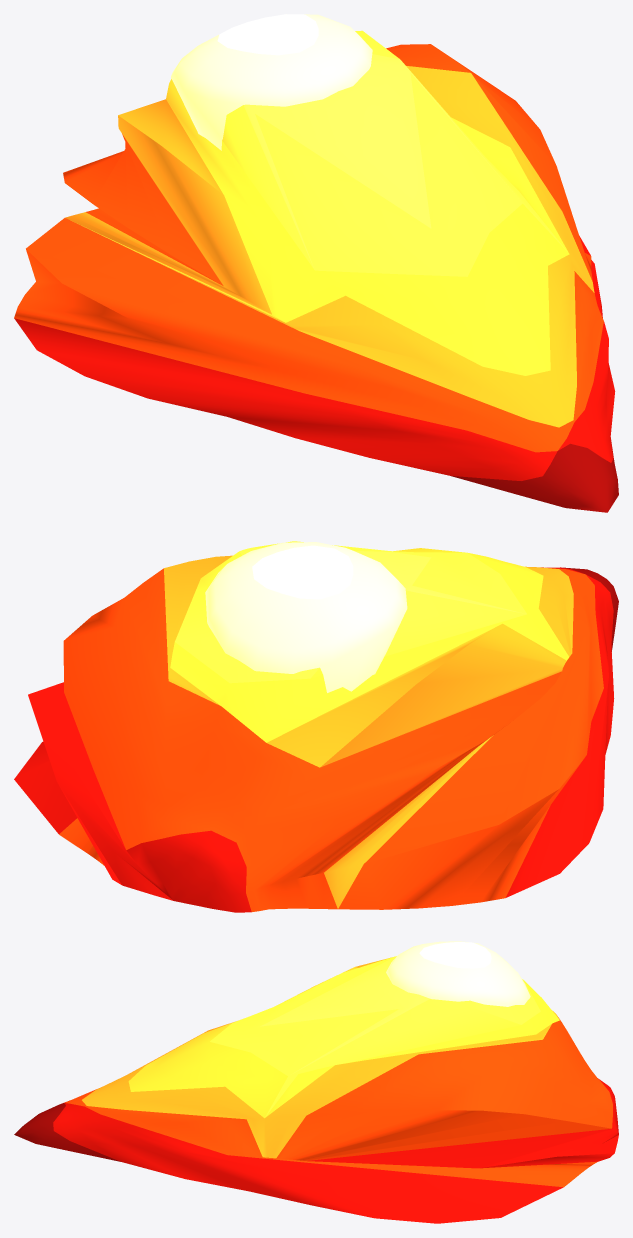
Rendered from shot_dflame_124.glb.
The picture shows the model from 3 angles, top to bottom: view 1: azimuth 30°, elevation 25°; view 2: azimuth 150°, elevation 25°; view 3: azimuth 270°, elevation 25°; orthographic projection. The views are drawn at different scales.
Parts seen in each view (by area): view 1: shot_dflame_124_fire, shot_dflame_124_core; view 2: shot_dflame_124_fire, shot_dflame_124_core; view 3: shot_dflame_124_fire, shot_dflame_124_core.
Boxes of the visible parts, <box> form: shot_dflame_124_fire: <box>14,30,618,512</box>; shot_dflame_124_core: <box>171,14,372,150</box>; shot_dflame_124_fire: <box>14,541,618,912</box>; shot_dflame_124_core: <box>205,542,407,692</box>; shot_dflame_124_fire: <box>14,956,618,1223</box>; shot_dflame_124_core: <box>386,941,530,1006</box>.
Size of the model in its own units: 9.75 by 4.55 by 14.
